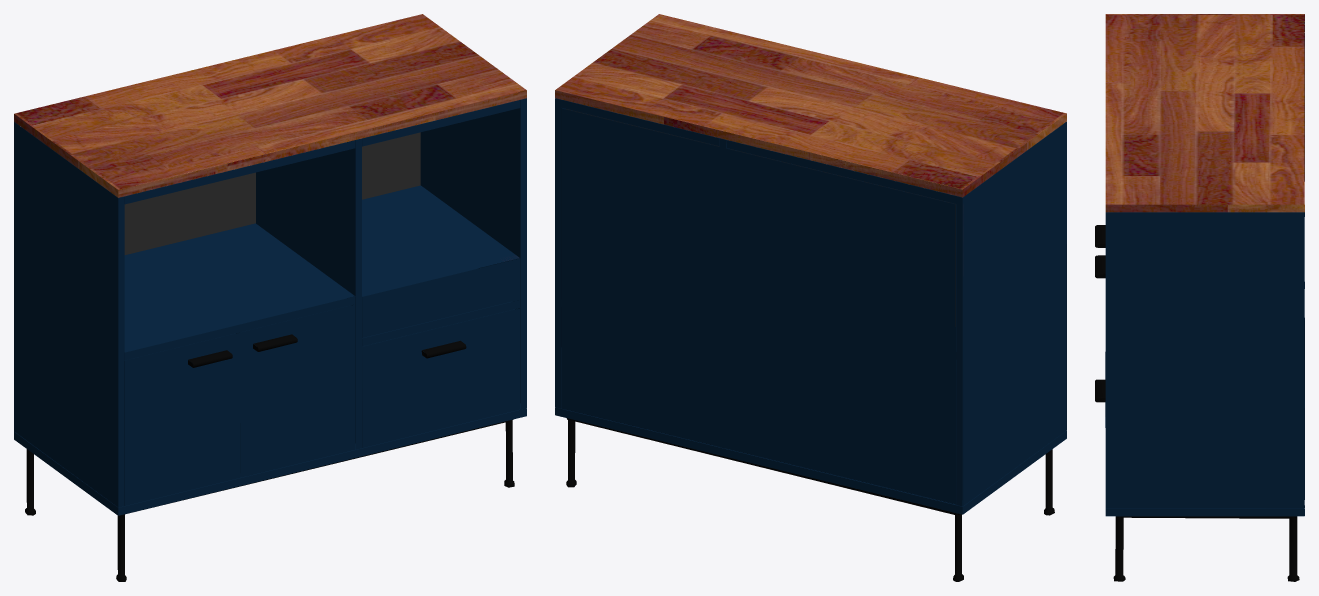
Rendered from Cabinet.fbx.
3 renders of one model, left to right at view 1: azimuth 30°, elevation 25°; view 2: azimuth 150°, elevation 25°; view 3: azimuth 270°, elevation 25°, orthographic. The views are drawn at different scales.
Visible parts, largest first — view 1: cabinet-133299_frame_countyoffice; view 2: cabinet-133299_frame_countyoffice; view 3: cabinet-133299_frame_countyoffice.
Boxes of the visible parts, box(x1,y1,x2,y2) form: cabinet-133299_frame_countyoffice: box(14, 14, 526, 581); cabinet-133299_frame_countyoffice: box(555, 14, 1066, 581); cabinet-133299_frame_countyoffice: box(1095, 14, 1304, 581).
Size of the model in its own units: 1.08 by 1 by 0.5.
1 material, 1 textured.
